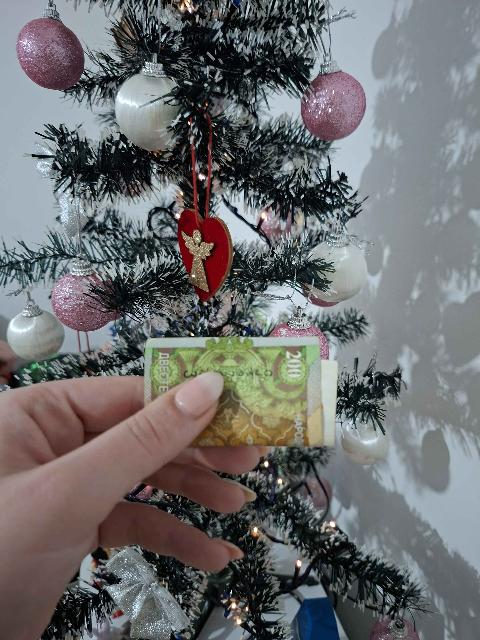200_note: (145, 337, 337, 446)
